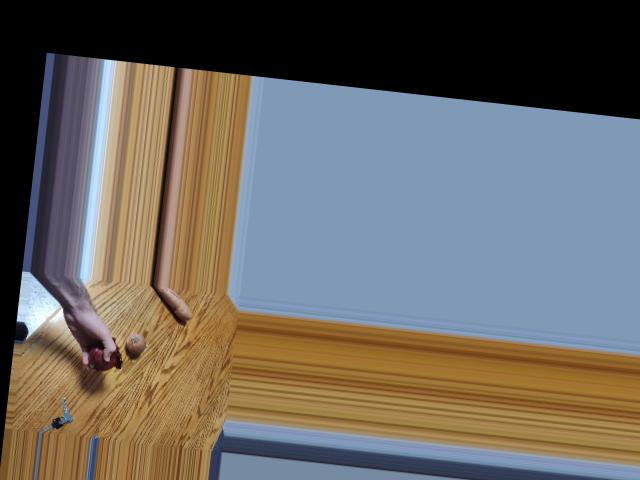onion: (88, 344, 117, 372)
